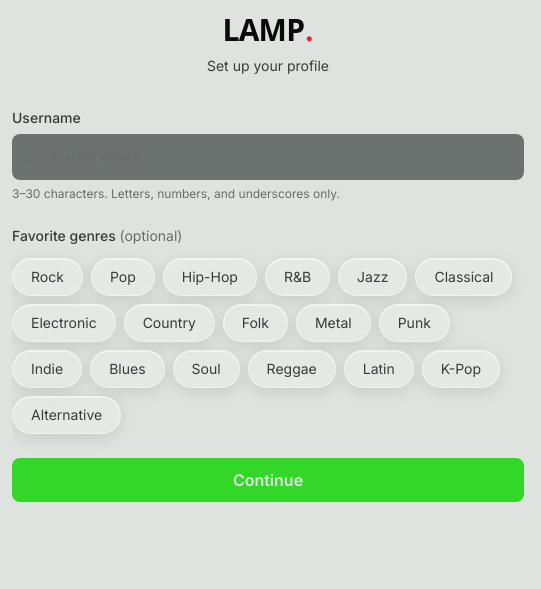
Scenario: OnboardingForm › shows error for duplicate username (23505 error)
This screenshot has width=541, height=589.
Type "takenuser" into the field labelled "Username" at (268, 157), box left=12, top=134, right=524, bottom=180
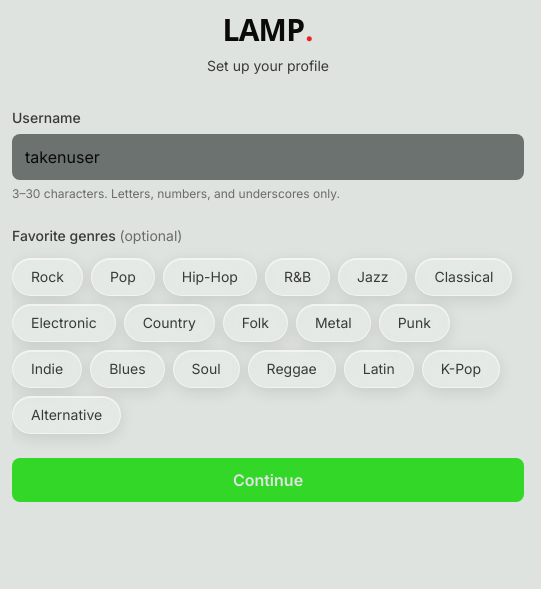
Click the button "Continue" at (268, 480), box left=12, top=458, right=524, bottom=502
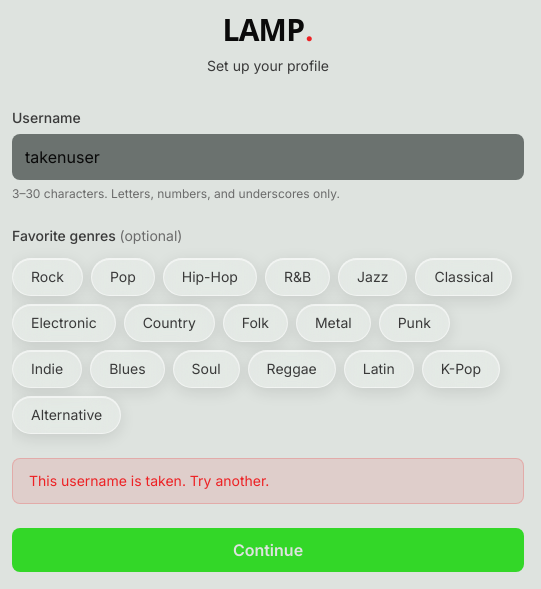
Now the text "This username is taken. Try another." is shown, box left=29, top=472, right=269, bottom=489
